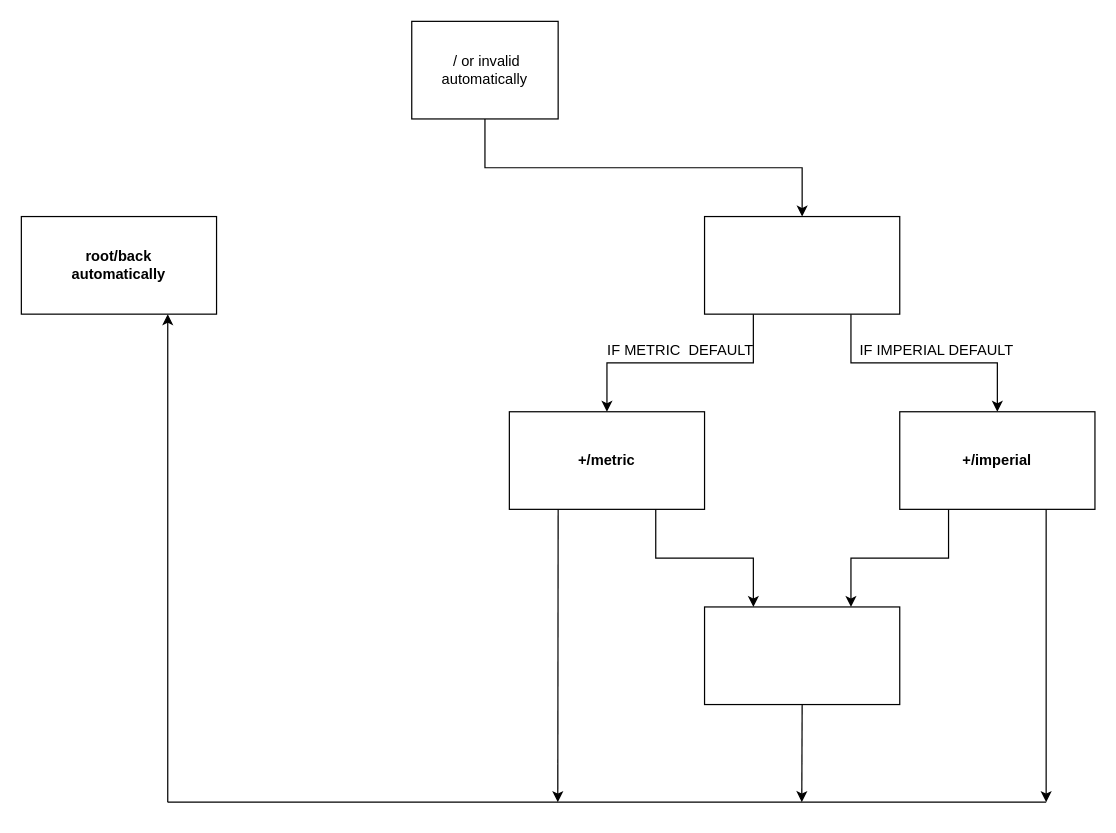
Some shapes in this 1116 by 833 pixel diagram are drawn without their labels. Here are the shapes that lost their labels. From the top down, the centre of each, then its label:
(x=801, y=264): +/front automatically
(x=801, y=655): +/settings
